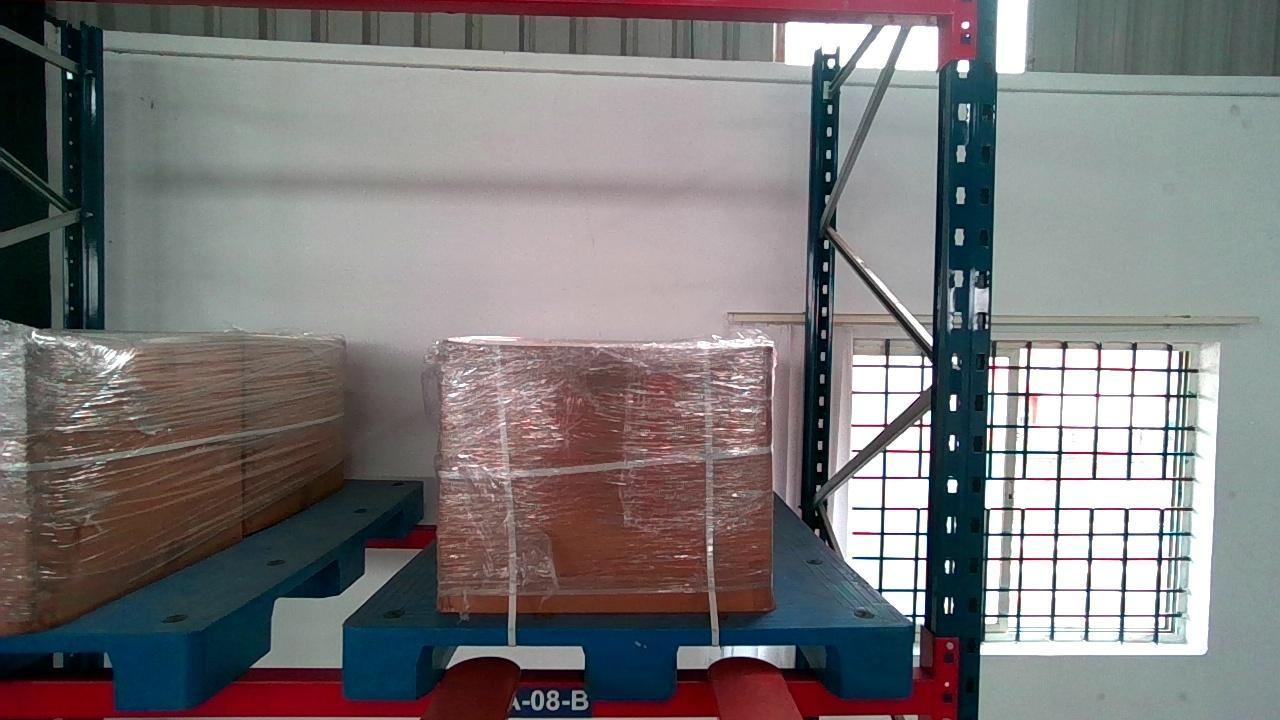small_pallet: (341, 626, 913, 698)
